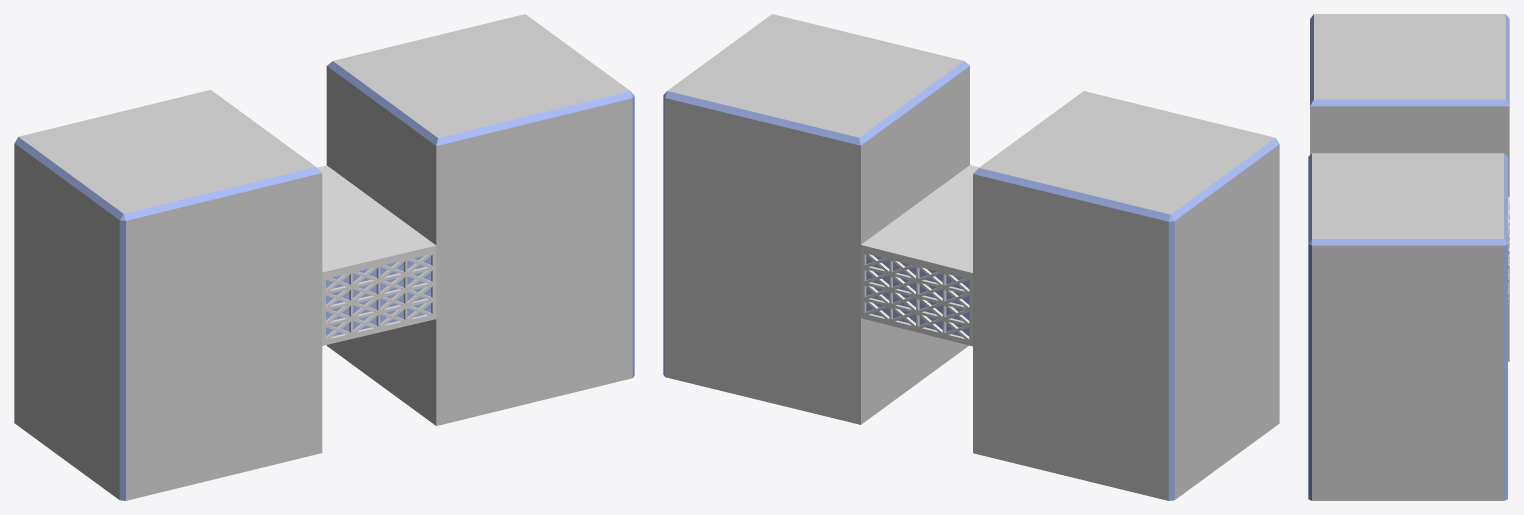
The model's file is twotwobuild.fbx.
The picture shows the model from 3 angles, left to right: view 1: azimuth 30°, elevation 25°; view 2: azimuth 150°, elevation 25°; view 3: azimuth 270°, elevation 25°; orthographic projection. The views are drawn at different scales.
Visible parts, largest first — view 1: Cube.107, Cube.339, Cube.322; view 2: Cube.107, Cube.339, Cube.322; view 3: Cube.107, Cube.322.
Part boxes in pixels (bbox=[...]): Cube.107: bbox=[14, 14, 632, 500]; Cube.339: bbox=[317, 165, 436, 345]; Cube.322: bbox=[15, 61, 634, 500]; Cube.107: bbox=[665, 14, 1279, 500]; Cube.339: bbox=[861, 165, 978, 346]; Cube.322: bbox=[663, 61, 1279, 500]; Cube.107: bbox=[1310, 14, 1509, 500]; Cube.322: bbox=[1308, 14, 1509, 500].
Bounding box in the file's own units: 5148 × 2735 × 1919.
